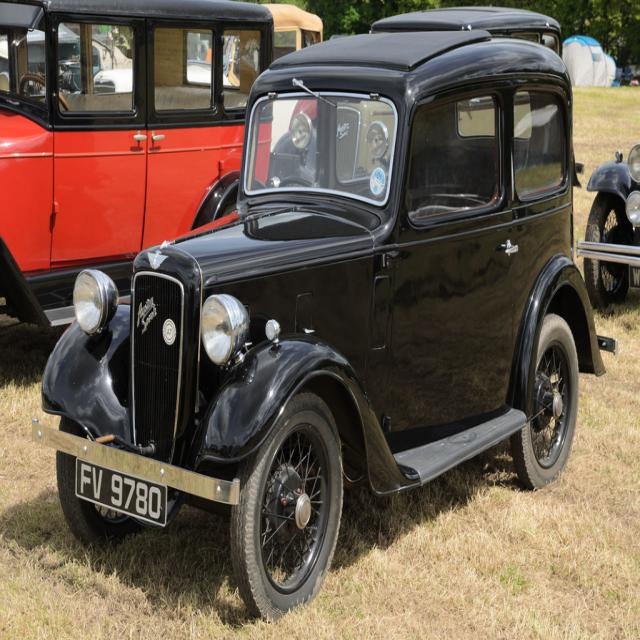car: (38, 27, 613, 618)
